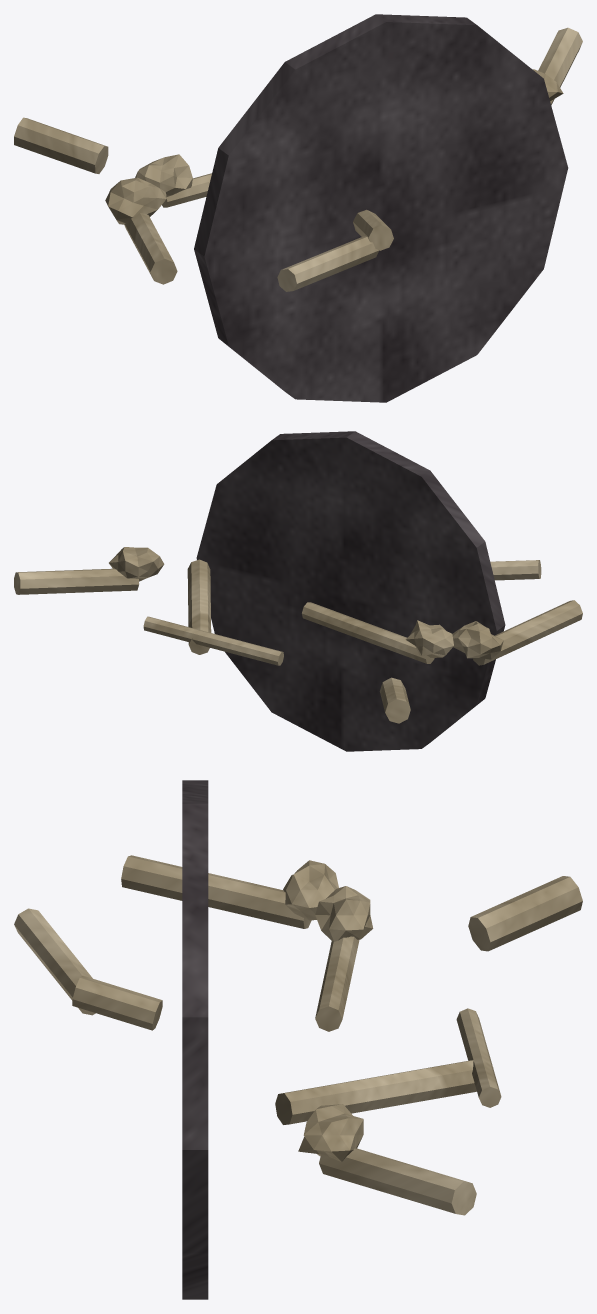
Rendered from 0243_bone_heap_18.glb.
3 views of the same model, one above another, from view 1: azimuth 30°, elevation 25°; view 2: azimuth 150°, elevation 25°; view 3: azimuth 270°, elevation 25° (orthographic). The views are drawn at different scales.
Parts seen in each view (by area): view 1: ash, bone; view 2: ash, bone; view 3: bone, ash.
Boxes of the visible parts, left/top/right/bottom form: ash: left=194, top=14, right=568, bottom=402; bone: left=14, top=27, right=582, bottom=291; ash: left=196, top=431, right=505, bottom=751; bone: left=14, top=547, right=582, bottom=723; bone: left=14, top=855, right=582, bottom=1215; ash: left=182, top=780, right=208, bottom=1299.
Size of the model in its own units: 2.47 by 1.6 by 1.75.
Materials: 2 (2 with a texture image).
